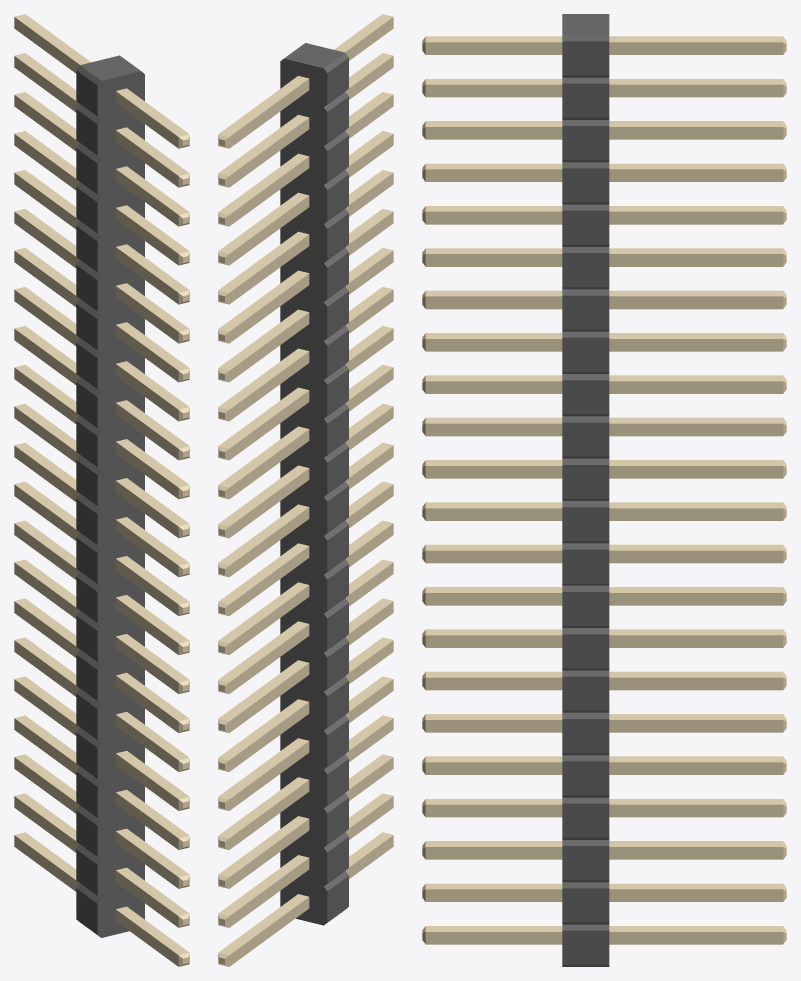
File: PinHeader_1x22_P1.00mm_Vertical.glb
3 renders of one model, left to right at view 1: azimuth 30°, elevation 25°; view 2: azimuth 150°, elevation 25°; view 3: azimuth 270°, elevation 25°, orthographic. The views are drawn at different scales.
Visible parts, largest first — view 1: Shape_IndexedFaceSet.003, Shape_IndexedFaceSet.001, Shape_IndexedFaceSet.179, Shape_IndexedFaceSet.211, Shape_IndexedFaceSet.299, Shape_IndexedFaceSet.267, Shape_IndexedFaceSet.191, Shape_IndexedFaceSet.136, Shape_IndexedFaceSet.152, Shape_IndexedFaceSet.175, Shape_IndexedFaceSet.181, Shape_IndexedFaceSet.184 (+100 smaller); view 2: Shape_IndexedFaceSet.004, Shape_IndexedFaceSet.267, Shape_IndexedFaceSet.299, Shape_IndexedFaceSet.224, Shape_IndexedFaceSet.231, Shape_IndexedFaceSet.235, Shape_IndexedFaceSet.240, Shape_IndexedFaceSet.248, Shape_IndexedFaceSet.263, Shape_IndexedFaceSet.279, Shape_IndexedFaceSet.280, Shape_IndexedFaceSet.295 (+100 smaller); view 3: Shape_IndexedFaceSet.259, Shape_IndexedFaceSet.261, Shape_IndexedFaceSet.229, Shape_IndexedFaceSet.250, Shape_IndexedFaceSet.289, Shape_IndexedFaceSet.297, Shape_IndexedFaceSet.302, Shape_IndexedFaceSet.226, Shape_IndexedFaceSet.233, Shape_IndexedFaceSet.238, Shape_IndexedFaceSet.242, Shape_IndexedFaceSet.247 (+99 smaller).
Part boxes in pixels (bbox=[...]): Shape_IndexedFaceSet.003: bbox=[97, 71, 144, 937]; Shape_IndexedFaceSet.001: bbox=[80, 55, 140, 80]; Shape_IndexedFaceSet.179: bbox=[115, 286, 178, 343]; Shape_IndexedFaceSet.211: bbox=[115, 675, 178, 732]; Shape_IndexedFaceSet.299: bbox=[14, 601, 79, 657]; Shape_IndexedFaceSet.267: bbox=[14, 212, 79, 268]; Shape_IndexedFaceSet.191: bbox=[115, 831, 178, 888]; Shape_IndexedFaceSet.136: bbox=[115, 598, 178, 654]; Shape_IndexedFaceSet.152: bbox=[115, 364, 178, 421]; Shape_IndexedFaceSet.175: bbox=[115, 325, 178, 382]; Shape_IndexedFaceSet.181: bbox=[115, 909, 178, 966]; Shape_IndexedFaceSet.184: bbox=[115, 870, 178, 927]; Shape_IndexedFaceSet.004: bbox=[280, 58, 327, 925]; Shape_IndexedFaceSet.267: bbox=[229, 273, 309, 343]; Shape_IndexedFaceSet.299: bbox=[229, 663, 309, 732]; Shape_IndexedFaceSet.224: bbox=[229, 585, 309, 654]; Shape_IndexedFaceSet.231: bbox=[229, 546, 309, 615]; Shape_IndexedFaceSet.235: bbox=[229, 468, 309, 537]; Shape_IndexedFaceSet.240: bbox=[229, 351, 309, 421]; Shape_IndexedFaceSet.248: bbox=[229, 429, 309, 498]; Shape_IndexedFaceSet.263: bbox=[229, 312, 309, 382]; Shape_IndexedFaceSet.279: bbox=[229, 819, 309, 888]; Shape_IndexedFaceSet.280: bbox=[229, 702, 309, 771]; Shape_IndexedFaceSet.295: bbox=[229, 624, 309, 693]; Shape_IndexedFaceSet.259: bbox=[609, 211, 783, 224]; Shape_IndexedFaceSet.261: bbox=[609, 296, 783, 309]; Shape_IndexedFaceSet.229: bbox=[609, 550, 783, 563]; Shape_IndexedFaceSet.250: bbox=[609, 423, 783, 436]; Shape_IndexedFaceSet.289: bbox=[609, 804, 783, 817]; Shape_IndexedFaceSet.297: bbox=[609, 677, 783, 690]; Shape_IndexedFaceSet.302: bbox=[609, 84, 783, 97]; Shape_IndexedFaceSet.226: bbox=[609, 593, 783, 605]; Shape_IndexedFaceSet.233: bbox=[609, 466, 783, 478]; Shape_IndexedFaceSet.238: bbox=[609, 508, 783, 520]; Shape_IndexedFaceSet.242: bbox=[609, 339, 783, 351]; Shape_IndexedFaceSet.247: bbox=[609, 381, 783, 393].
Size of the model in its own units: 0.5 by 8.66 by 3.07.
